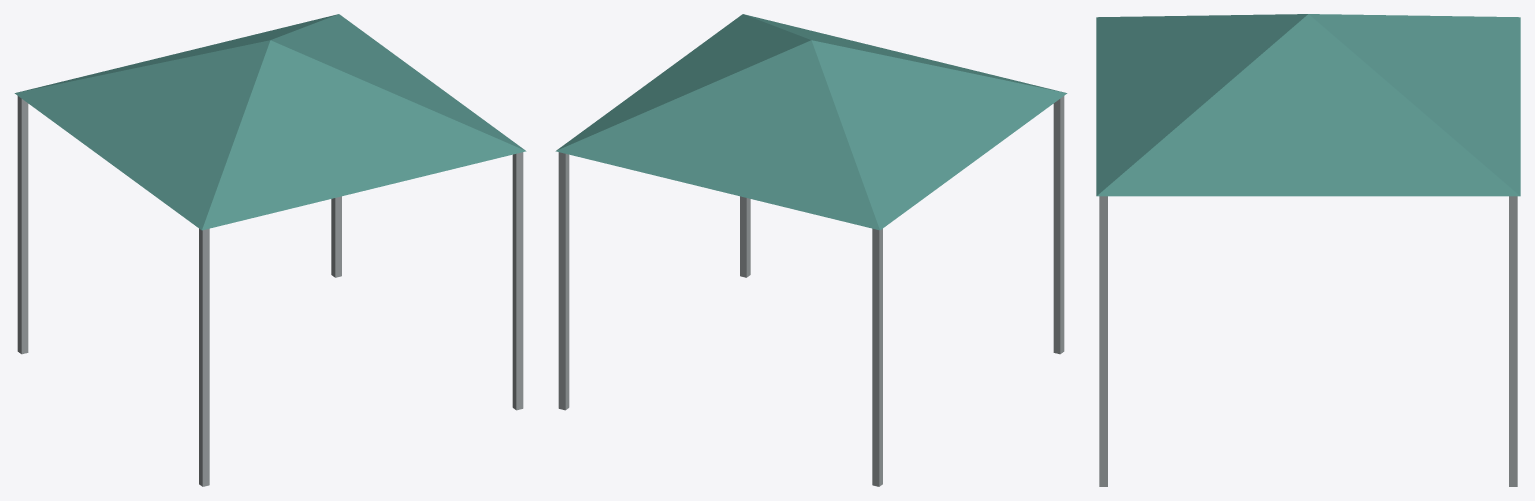
File: grand-prix-circuit-and-open-wheel-hospitality-tent-fabdb901__15244.glb
3 views of the same model, side by side, from view 1: azimuth 30°, elevation 25°; view 2: azimuth 150°, elevation 25°; view 3: azimuth 270°, elevation 25° (orthographic). The views are drawn at different scales.
Visible parts, largest first — view 1: hospitality-tent; view 2: hospitality-tent; view 3: hospitality-tent.
Boxes of the visible parts, x1,y1,x2,y2 form: hospitality-tent: [14, 14, 526, 486]; hospitality-tent: [555, 14, 1067, 486]; hospitality-tent: [1096, 14, 1520, 486].
Bounding box in the file's own units: 2.9 × 2.9 × 2.9.
